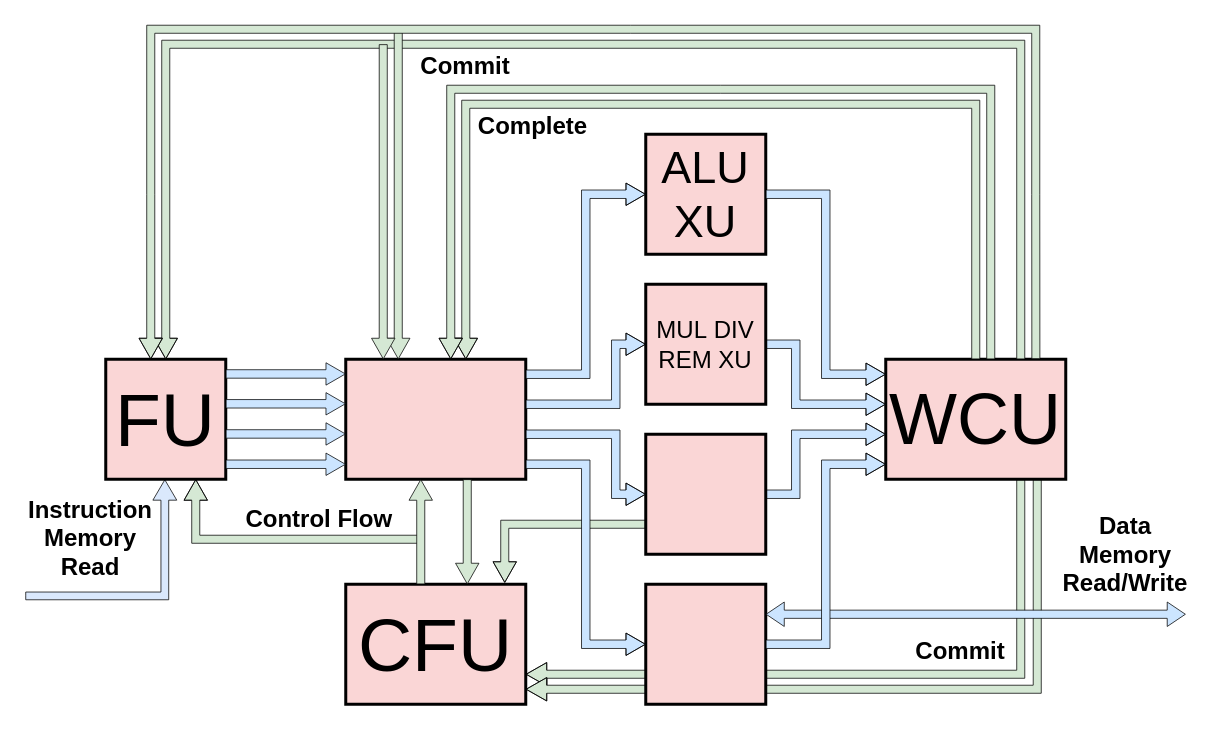
Some shapes in this 1215 by 732 pixel diagram are drawn without their labels. Each missing label, with the centre of its shape:
"CTRL XU" goes at (x=705, y=493).
"DIU" goes at (x=435, y=418).
"MEM XU" goes at (x=705, y=643).
